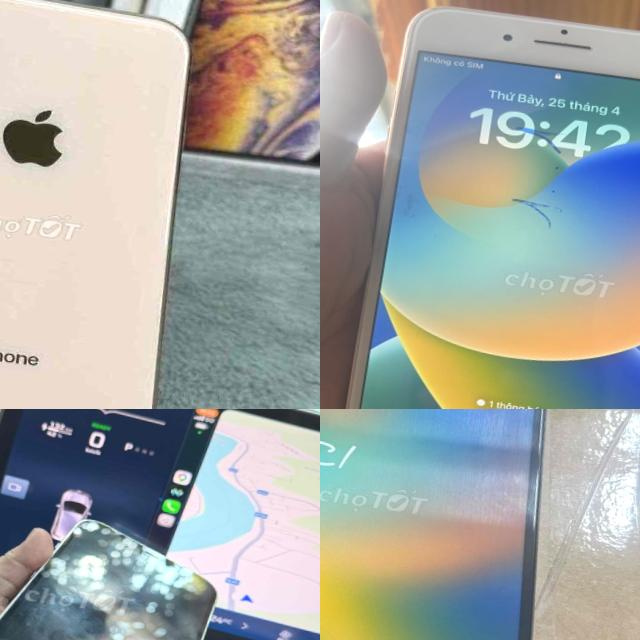gen_12_13: (0, 498, 225, 640)
gen_7_8: (320, 0, 640, 409), (320, 409, 600, 640)
gen_x_xs: (0, 0, 252, 409)
scratch: (550, 36, 572, 48)
screen_defect: (502, 192, 568, 232), (507, 122, 572, 160), (390, 183, 428, 221), (398, 146, 422, 164), (404, 120, 418, 137), (544, 184, 560, 195), (547, 162, 564, 172)
